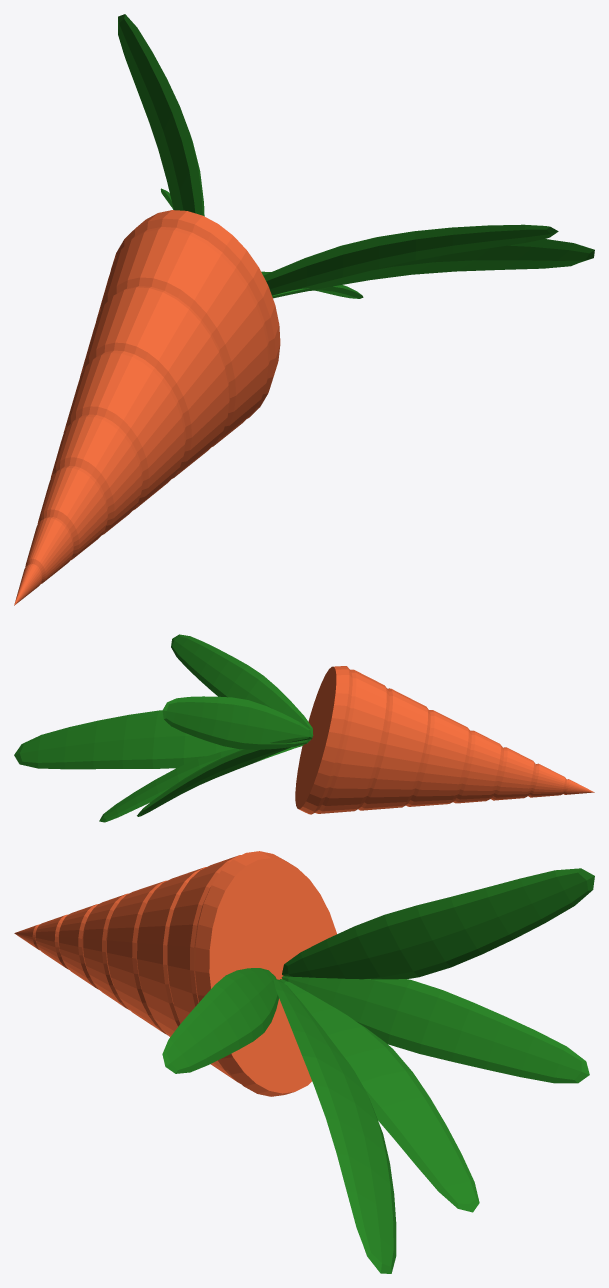
3 views of the same model, one above another, from view 1: azimuth 30°, elevation 25°; view 2: azimuth 150°, elevation 25°; view 3: azimuth 270°, elevation 25° (orthographic). The views are drawn at different scales.
Parts seen in each view (by area): view 1: Plane.009; view 2: Plane.009; view 3: Plane.009.
Part boxes in pixels (x1,y1,x2,y2): Plane.009: (14,14,594,605); Plane.009: (14,634,594,822); Plane.009: (14,851,594,1273).
Bounding box in the file's own units: 70.31 × 24.49 × 48.55.
